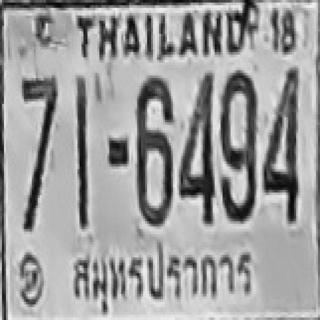N01: (76, 74, 88, 191)
N04: (261, 66, 299, 220), (177, 72, 213, 222)
N06: (135, 75, 173, 224)
N07: (20, 75, 58, 169)
N09: (219, 72, 256, 220)
P57: (66, 240, 259, 301)
